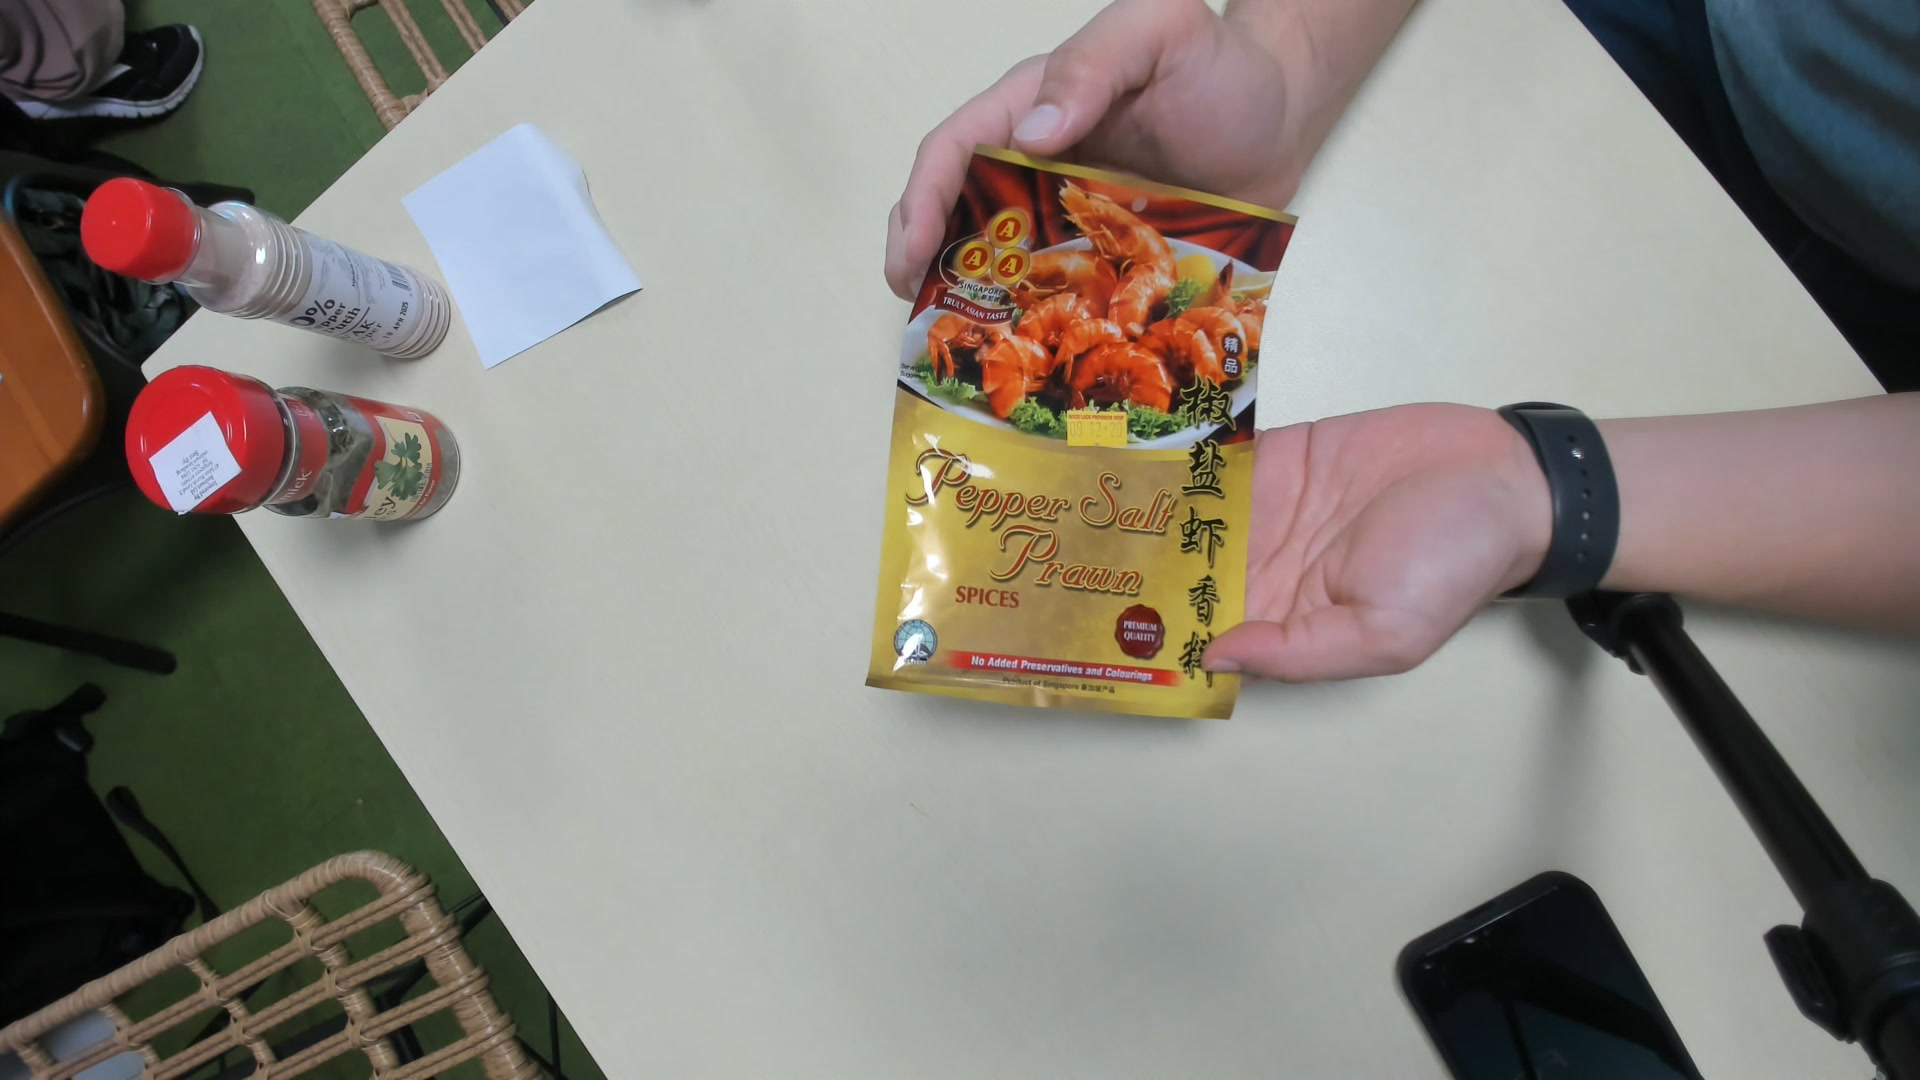HerbsSpicesPepper_400-499g_Halal_NonHealthy: (873, 152, 1273, 720)
